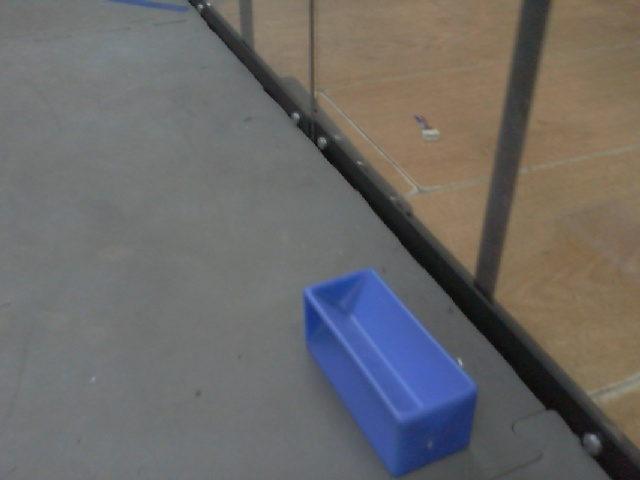BlueSample: (300, 264, 486, 480)
